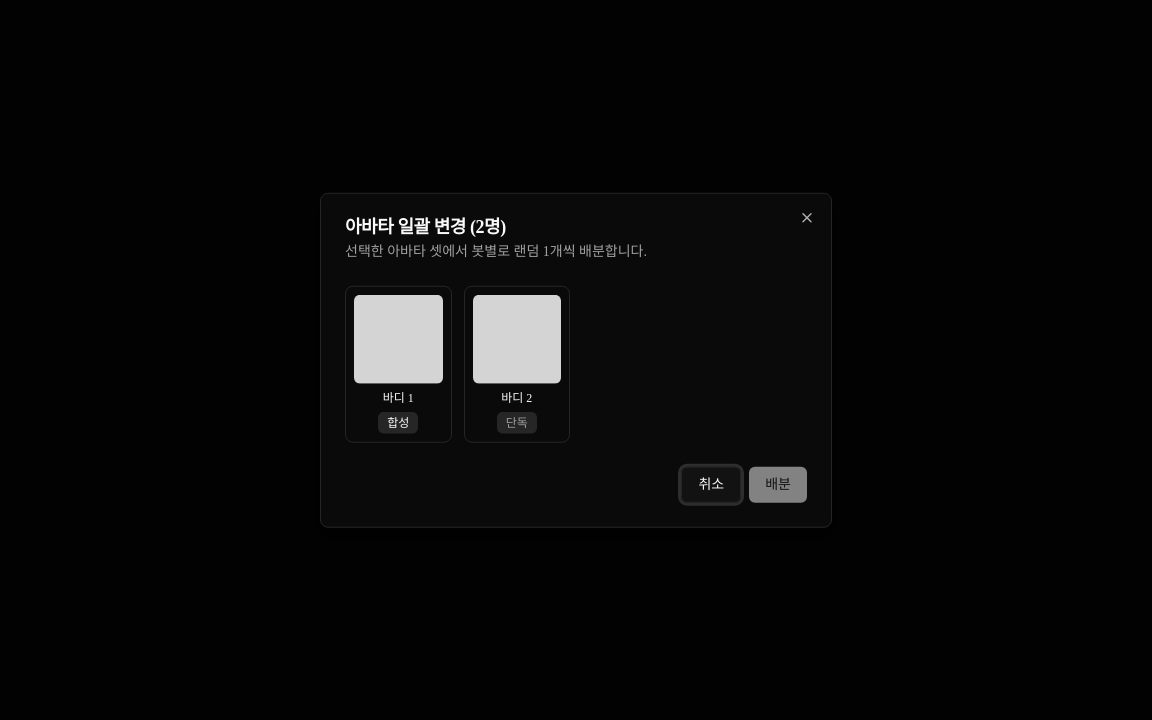
DistributeAvatarsDialog › 셋 선택 후 배분 → POST distribute {botIds, bodyUris} + 결과 요약
The image size is (1152, 720).
Expected: the text "바디 1" is shown, [383, 390, 414, 404]
Click the button "바디 1 합성" at x=398, y=364, box [345, 286, 452, 442]
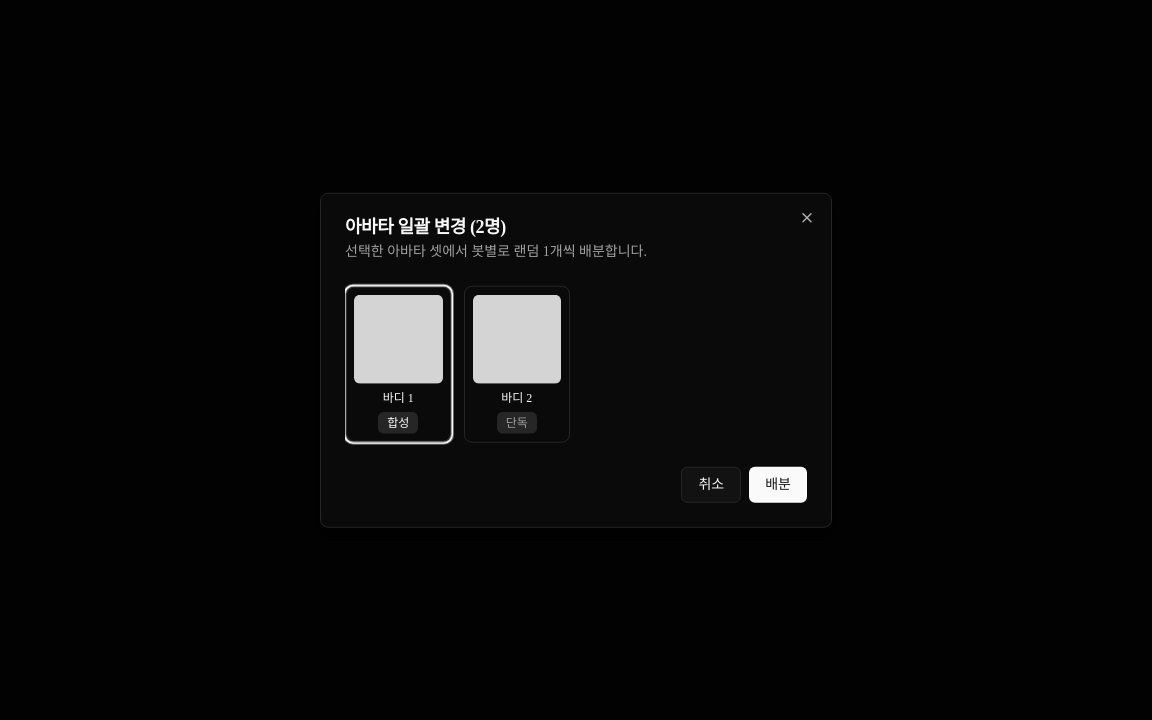
Click the button "바디 2 단독" at x=517, y=364, box [464, 286, 570, 442]
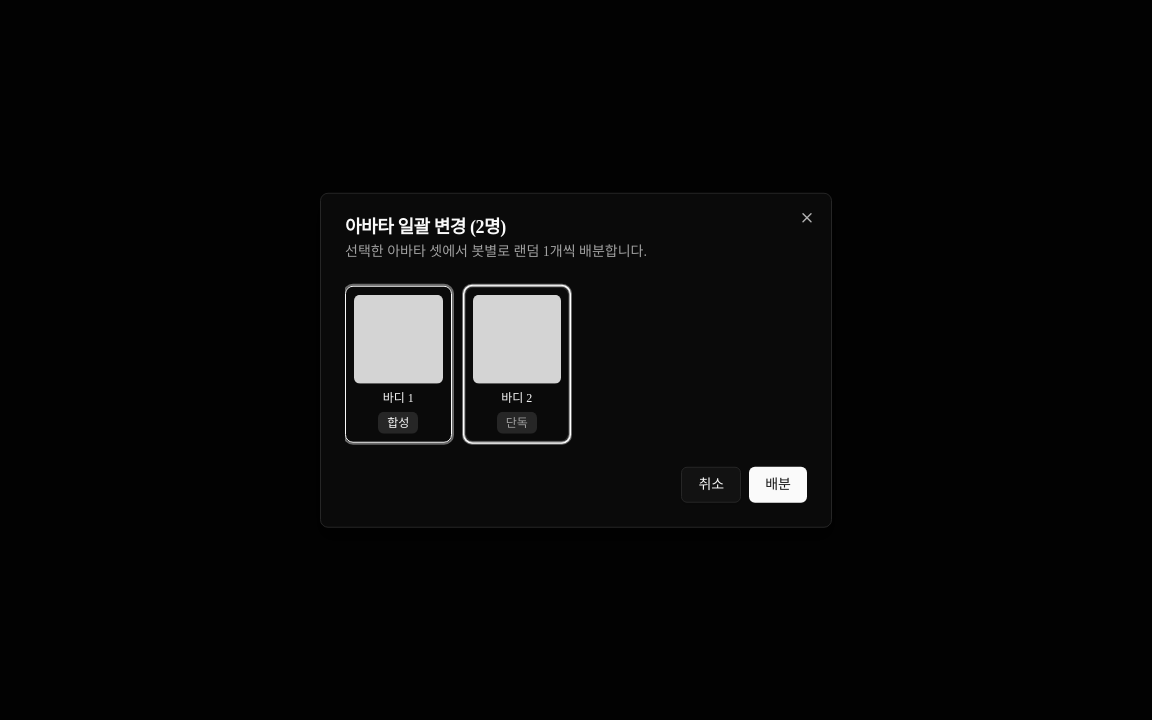
Click the button "배분" at x=778, y=484, box [749, 466, 807, 502]
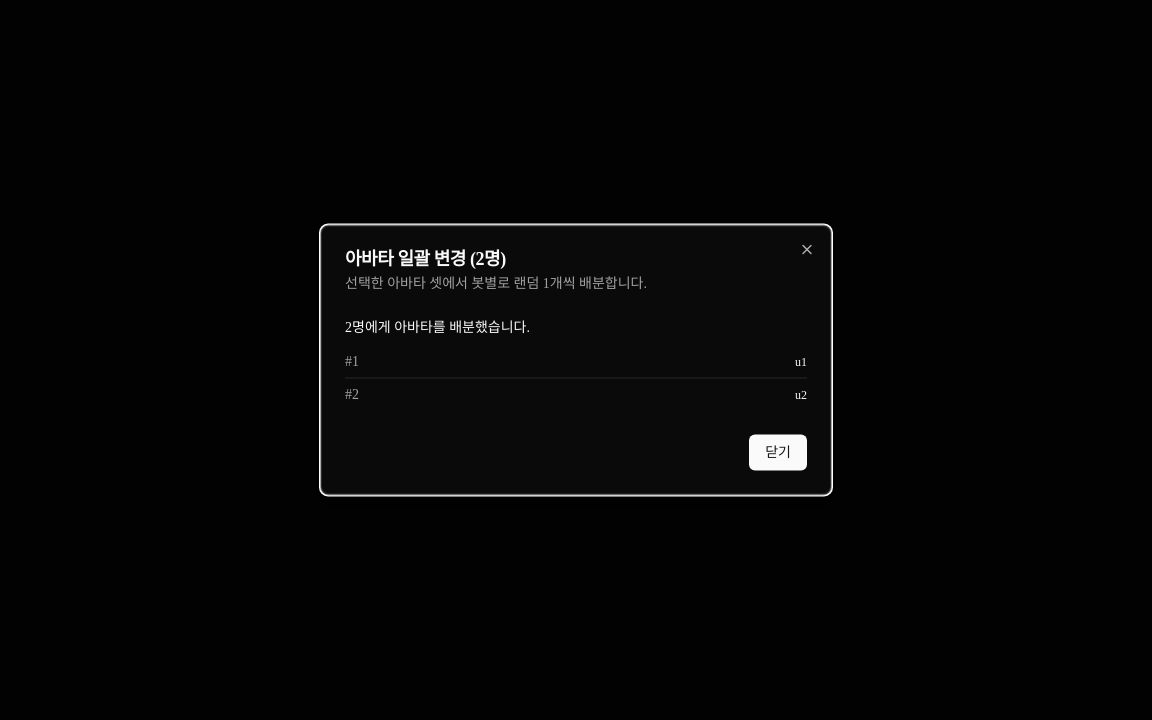
Expected: the text "2명에게 아바타를 배분했습니다." is shown, [345, 320, 530, 334]
